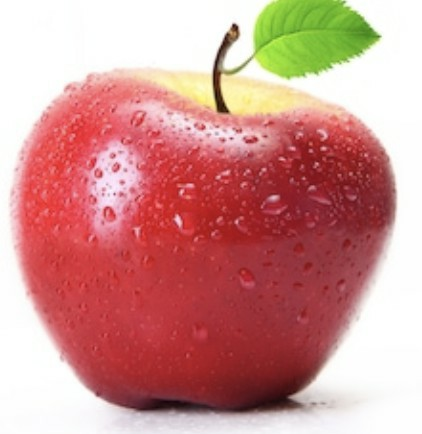fresh_apple: (14, 68, 401, 412)
